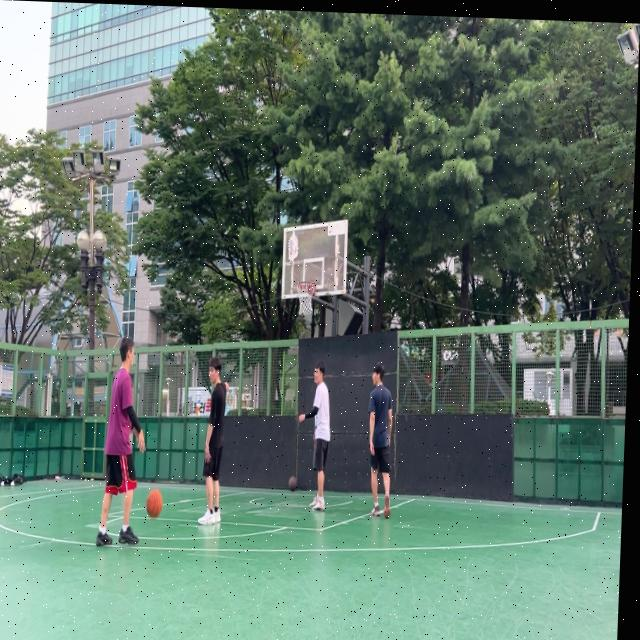basketball: (146, 488, 163, 518), (288, 475, 298, 492)
hoop: (295, 280, 316, 316)
